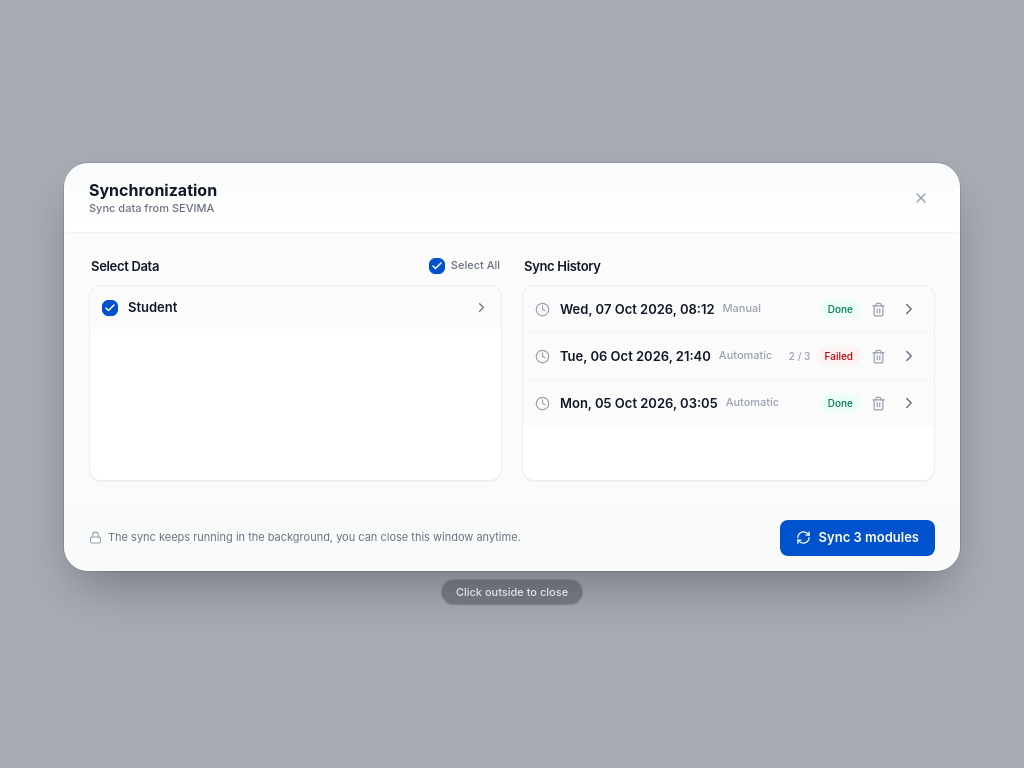
Scenario: Synchronization modal terhubung ke server › detail riwayat dibuka dengan siapa yang sync, pesan gagal, dan status per modul
Step 1. Click the button named "details of" → (909, 356), box [896,343,922,369]
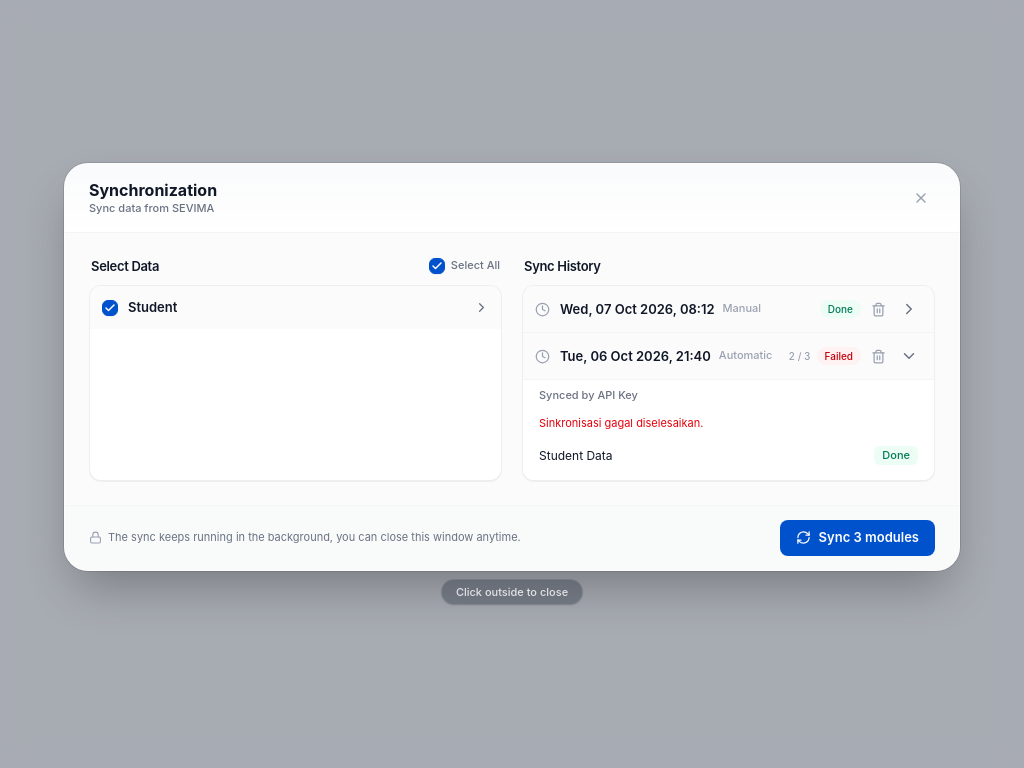
Check: the text "Sinkronisasi gagal diselesaikan." is shown, box [539,416,703,430]
